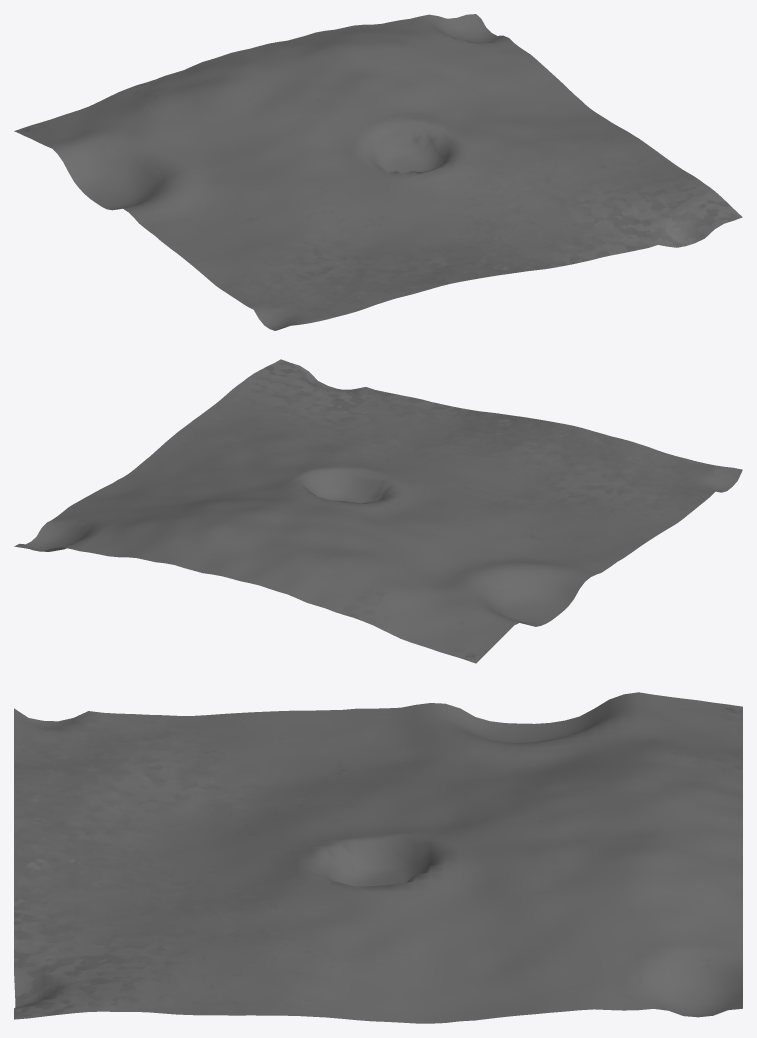
Rendered from moon_surface-0.glb.
The picture shows the model from 3 angles, top to bottom: view 1: azimuth 30°, elevation 25°; view 2: azimuth 150°, elevation 25°; view 3: azimuth 270°, elevation 25°; orthographic projection. The views are drawn at different scales.
Visible parts, largest first — view 1: moon_surface; view 2: moon_surface; view 3: moon_surface.
Boxes of the visible parts, x1,y1,x2,y2 form: moon_surface: (14,14,742,330); moon_surface: (14,359,742,663); moon_surface: (14,692,742,1023).
Size of the model in its own units: 5 by 0.5794 by 5.
Materials: 1 (1 with a texture image).
